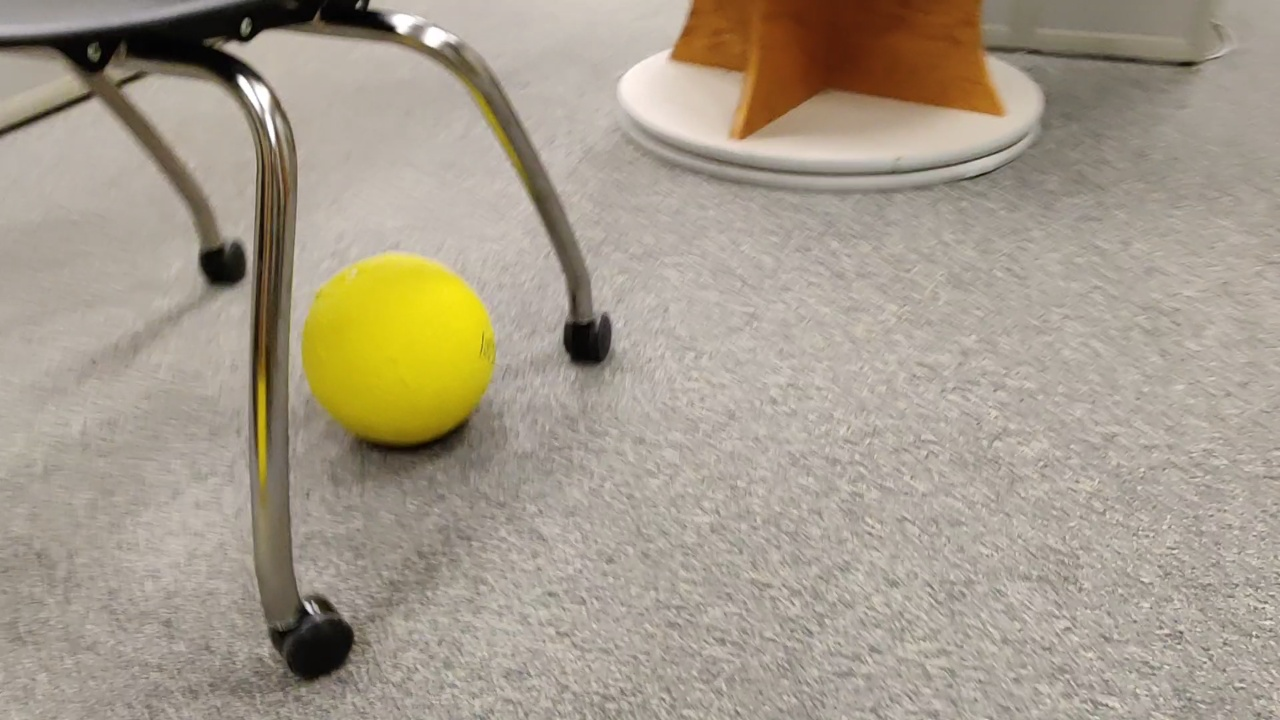Ball: (299, 255, 493, 445)
